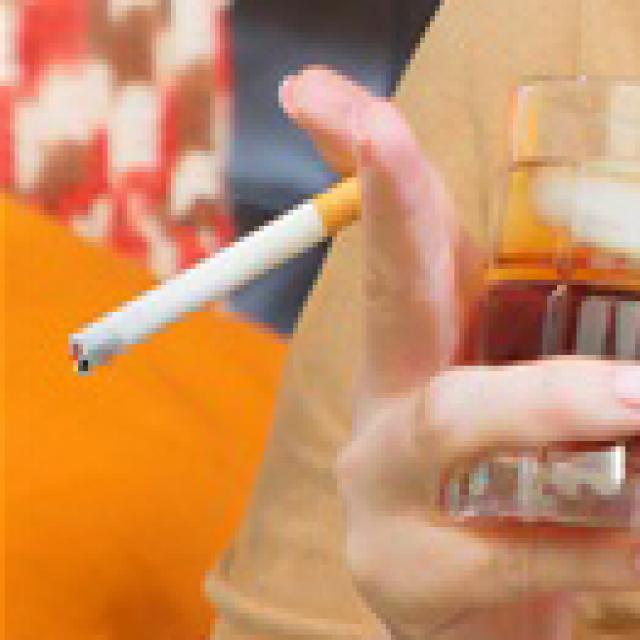smoking: (67, 171, 372, 374)
